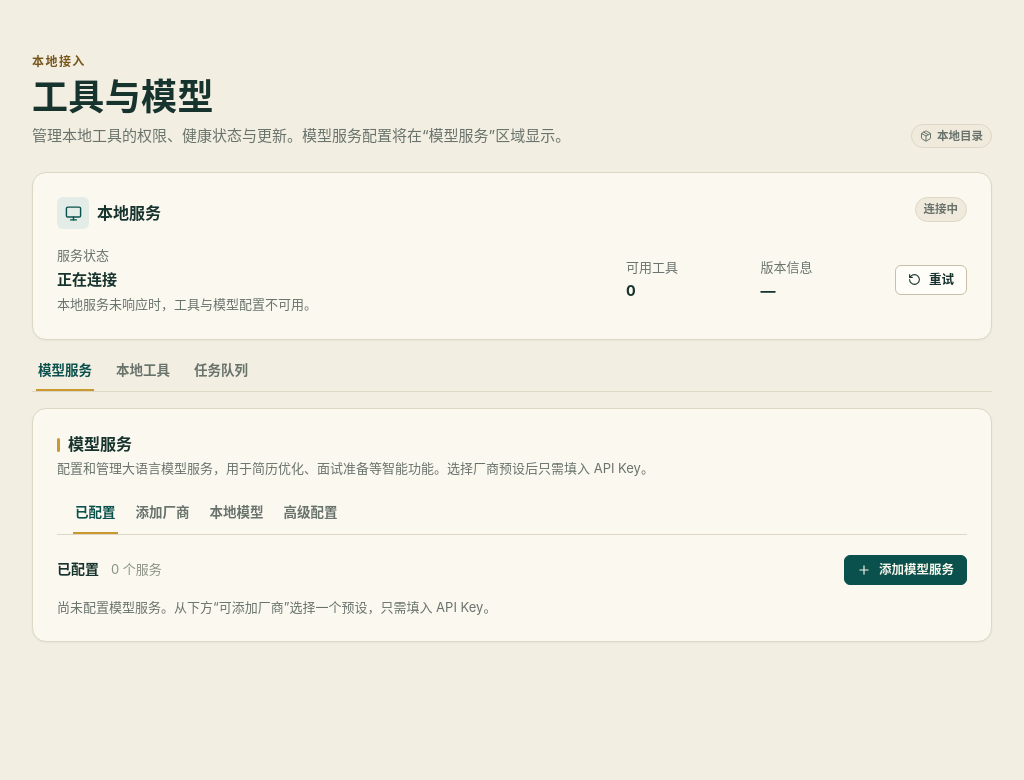
shows manifest details, policy, audit and uninstall impact without external writes
The width and height of the screenshot is (1024, 780).
Click the tab "本地工具". click: point(143, 376)
box: [114,360,172,391]
(page scrolled)
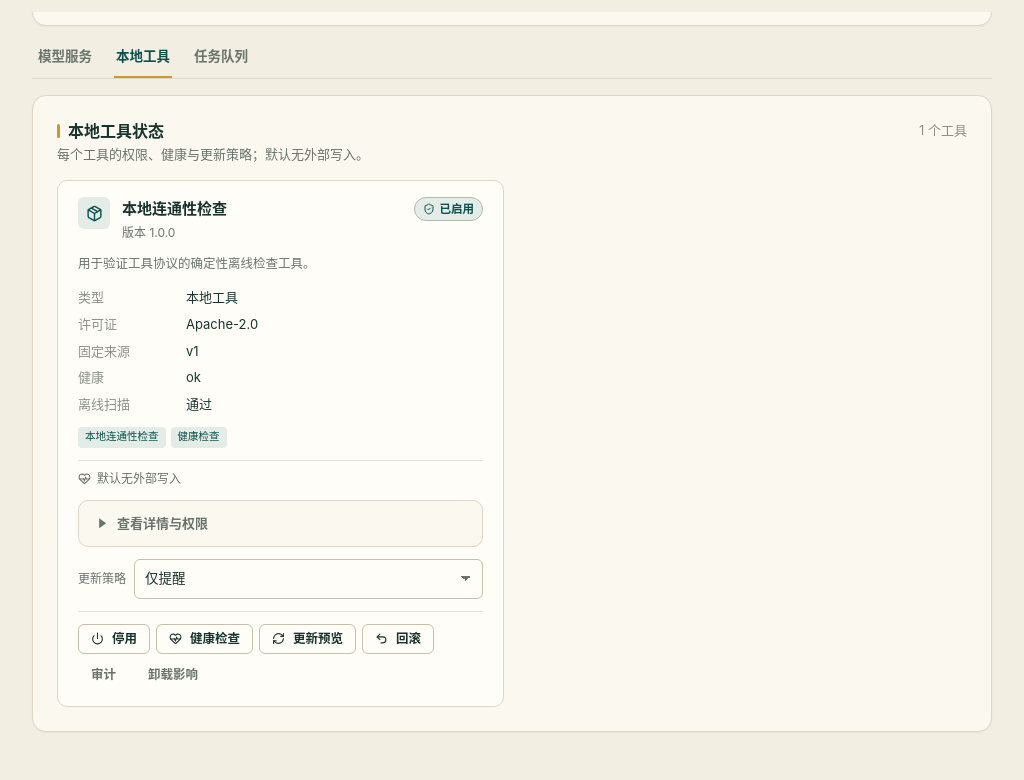
Result: the heading "本地连通性检查" is shown at [122,199,227,218]
Click the heading "查看详情与权限". click: point(162, 523)
box: [117,515,208,531]
(page scrolled)
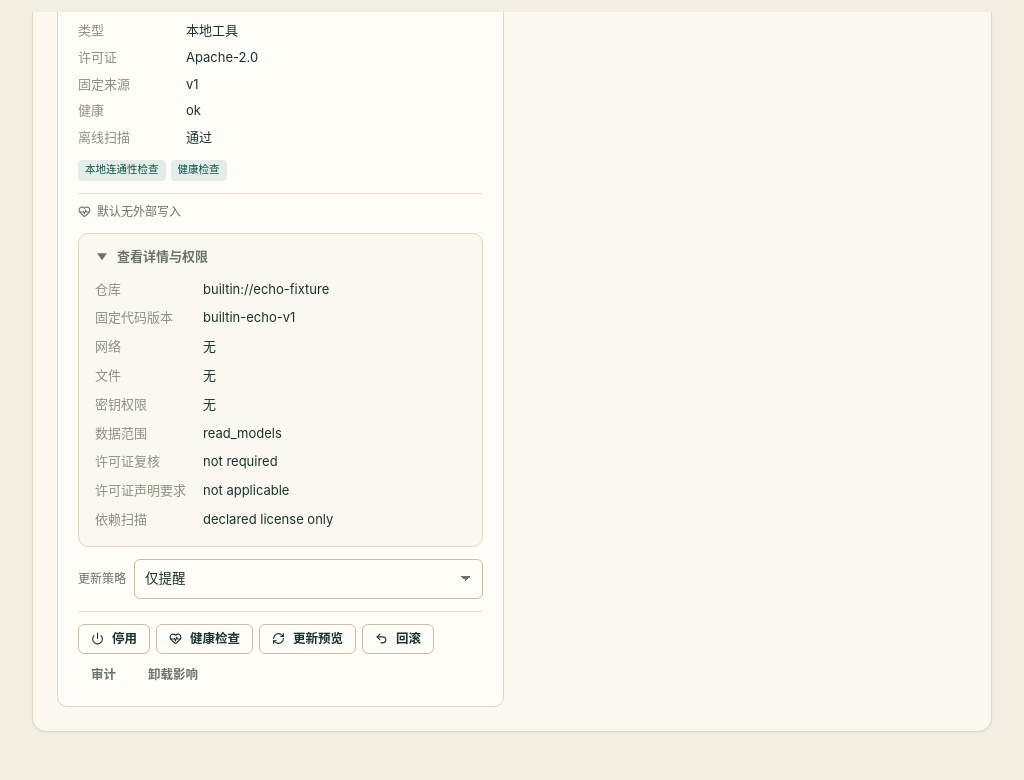
Result: the text "builtin://echo-fixture" is shown at [203,281,329,297]
Select "手动批准" in the dropdown named "Echo Fixture更新策略". click: point(308, 579)
box: [134,559,483,599]
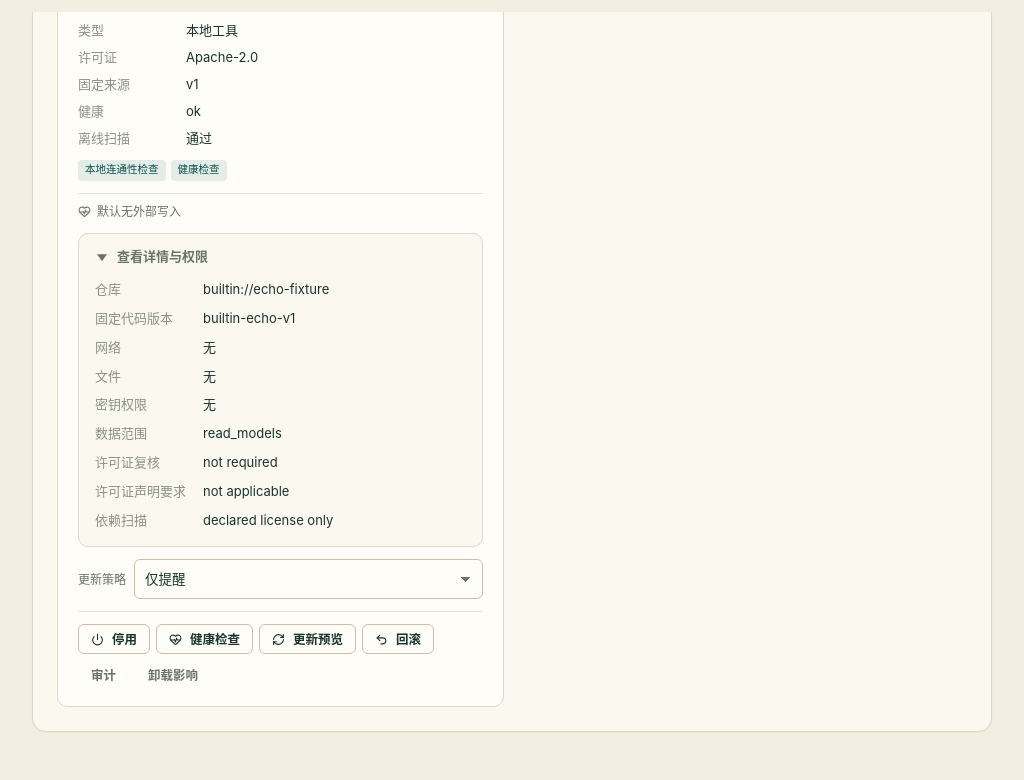
Click the button "审计". click: point(104, 675)
box: [78,660,129,690]
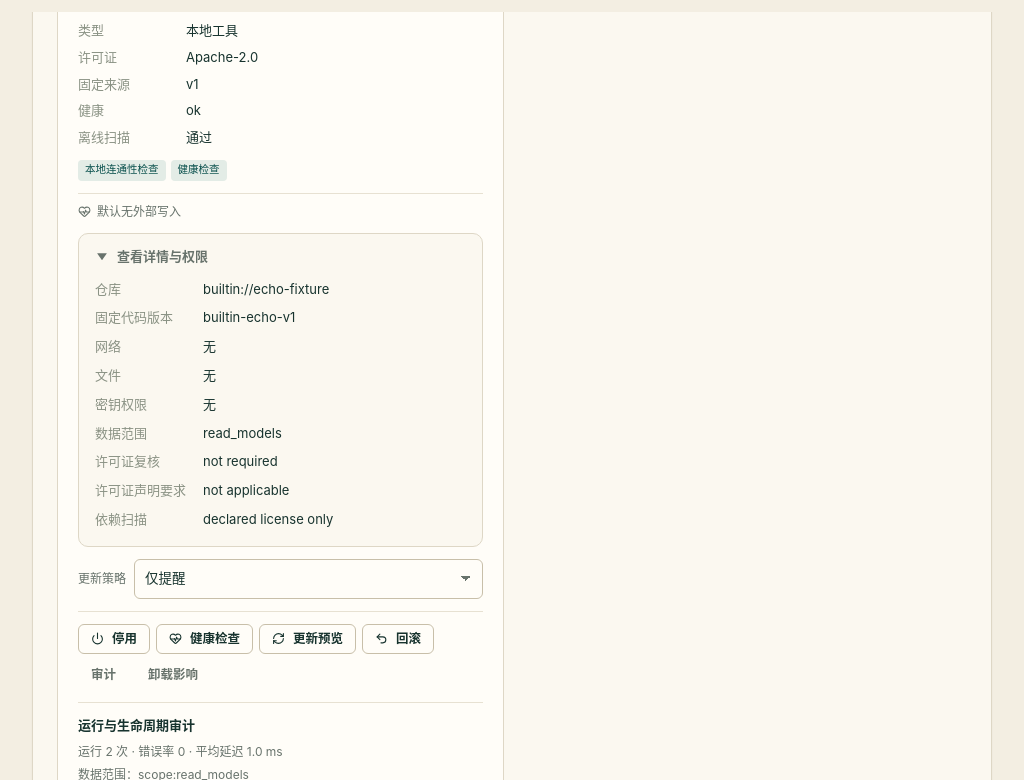
Result: the element named "Echo Fixture审计" is shown at [78,702,483,779]
Result: the text "运行 2 次 · 错误率 0 · 平均延迟 1.0 ms" is shown at [78,744,283,759]
Click the button "卸载影响". click: point(173, 675)
box: [135,660,211,690]
(page scrolled)
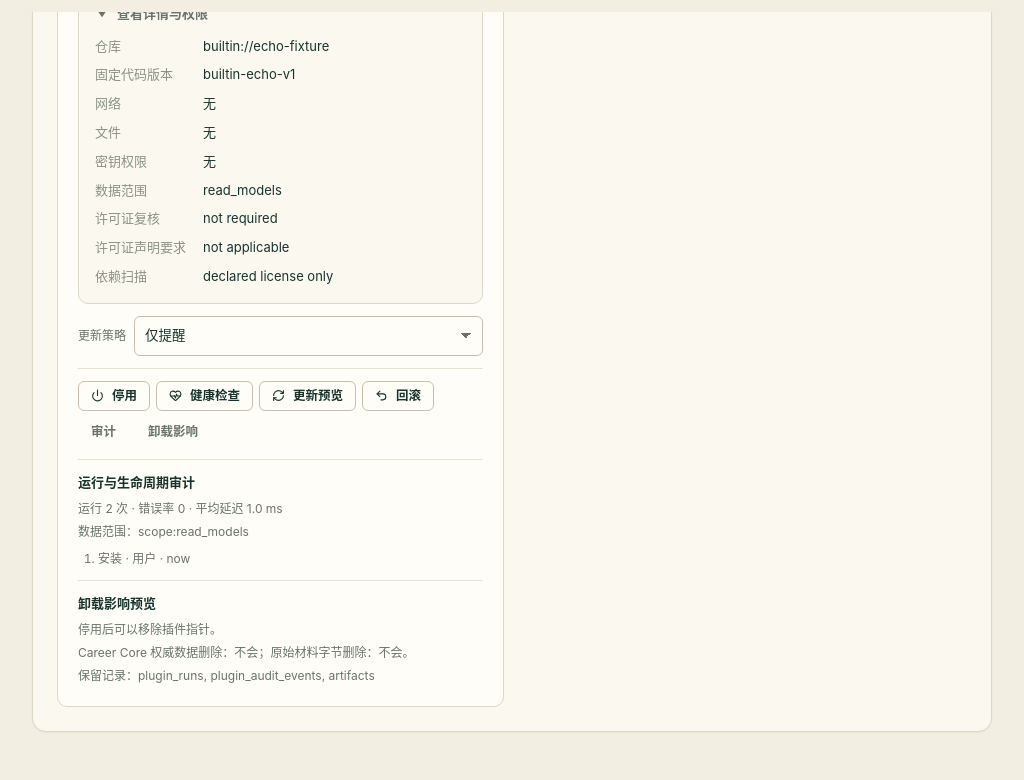
Result: the element named "Echo Fixture卸载影响" is shown at [78,580,483,690]
